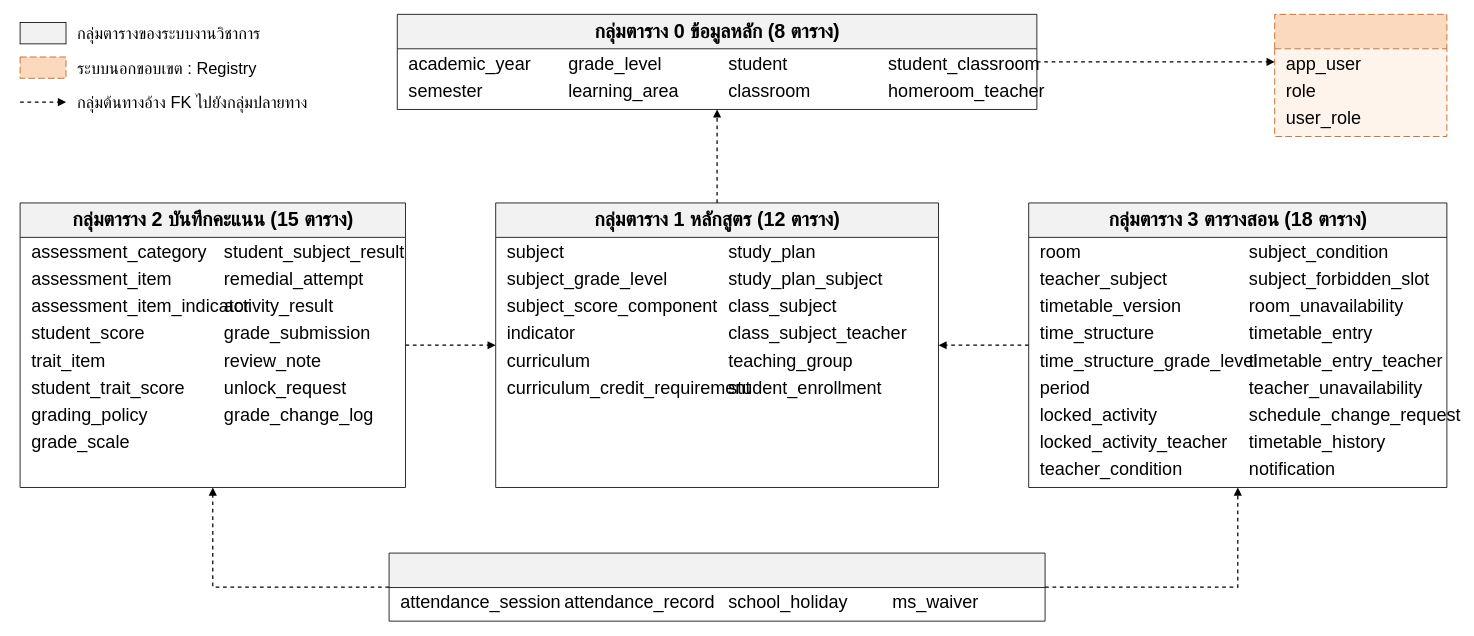
The diagram is 1474 pixels wide and 636 high, and some of its shapes have lost their labels. Each missing label, with the box of its shape:
Registry: (1274, 14, 1447, 137)
กลุ่มตาราง 4 เช็คชื่อ (4 ตาราง): (388, 552, 1045, 621)
